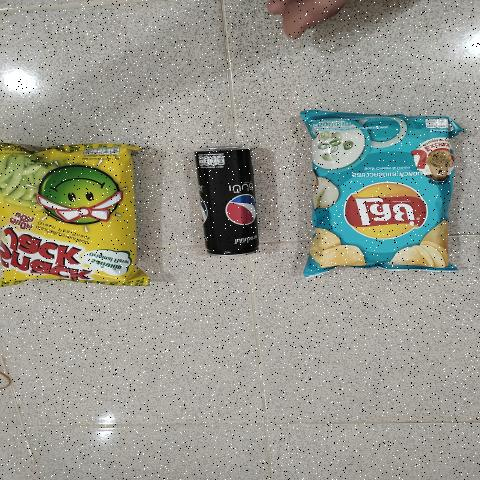lay_blue: (314, 122, 440, 264)
pepsi_black: (197, 151, 256, 250)
snack_jack: (0, 151, 125, 281)
